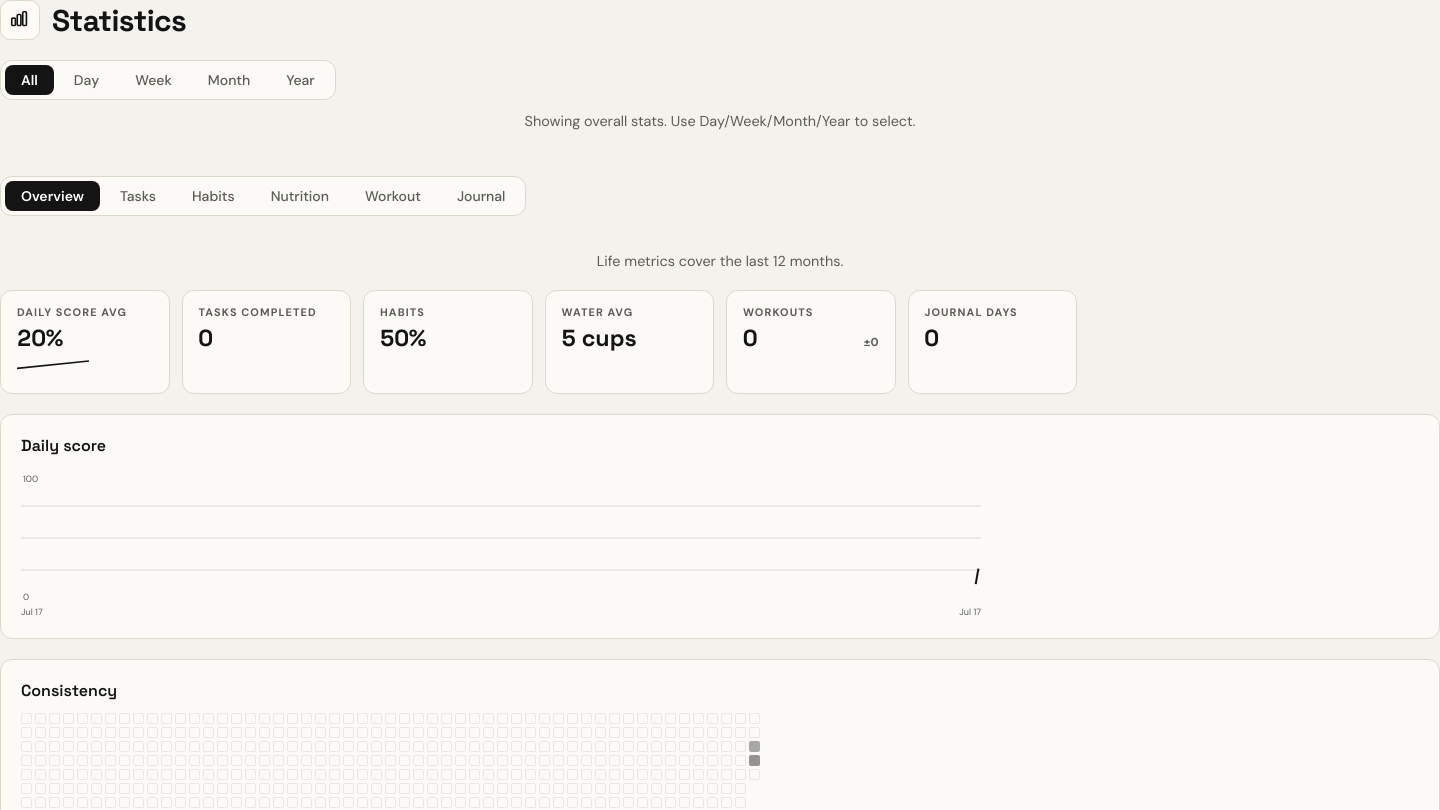
Test: Statistics life-metric sections (guest) › Habits tab shows per-habit completion; Nutrition shows averages vs targets
Click the tab "Habits". click: (213, 196)
box: 176,181 -> 251,211
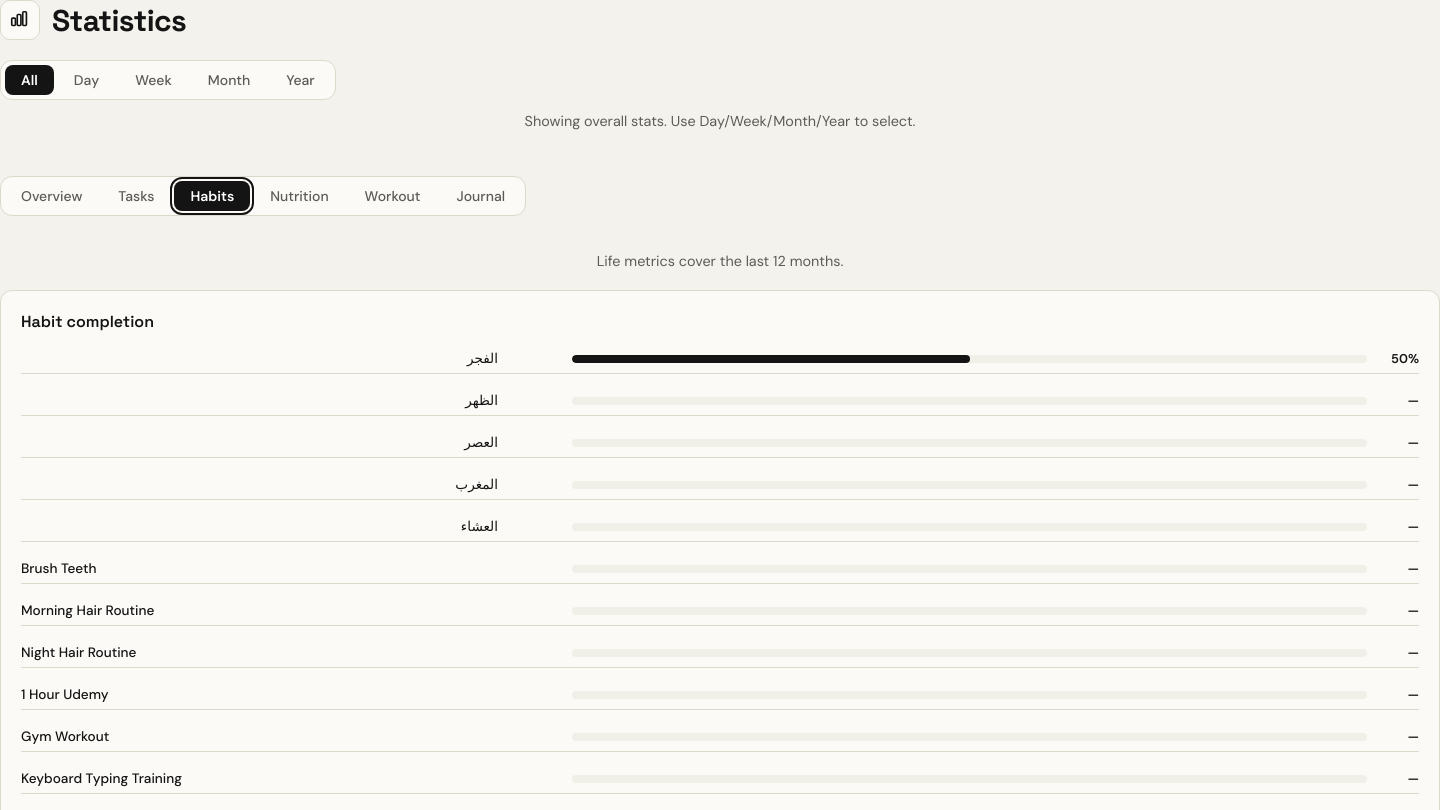
Expected: the text "50%" is shown, 1391,350 -> 1419,367
Expected: the text "الفجر" is shown, 467,350 -> 498,367
Click the tab "Nutrition". click: (300, 196)
box: 254,181 -> 345,211
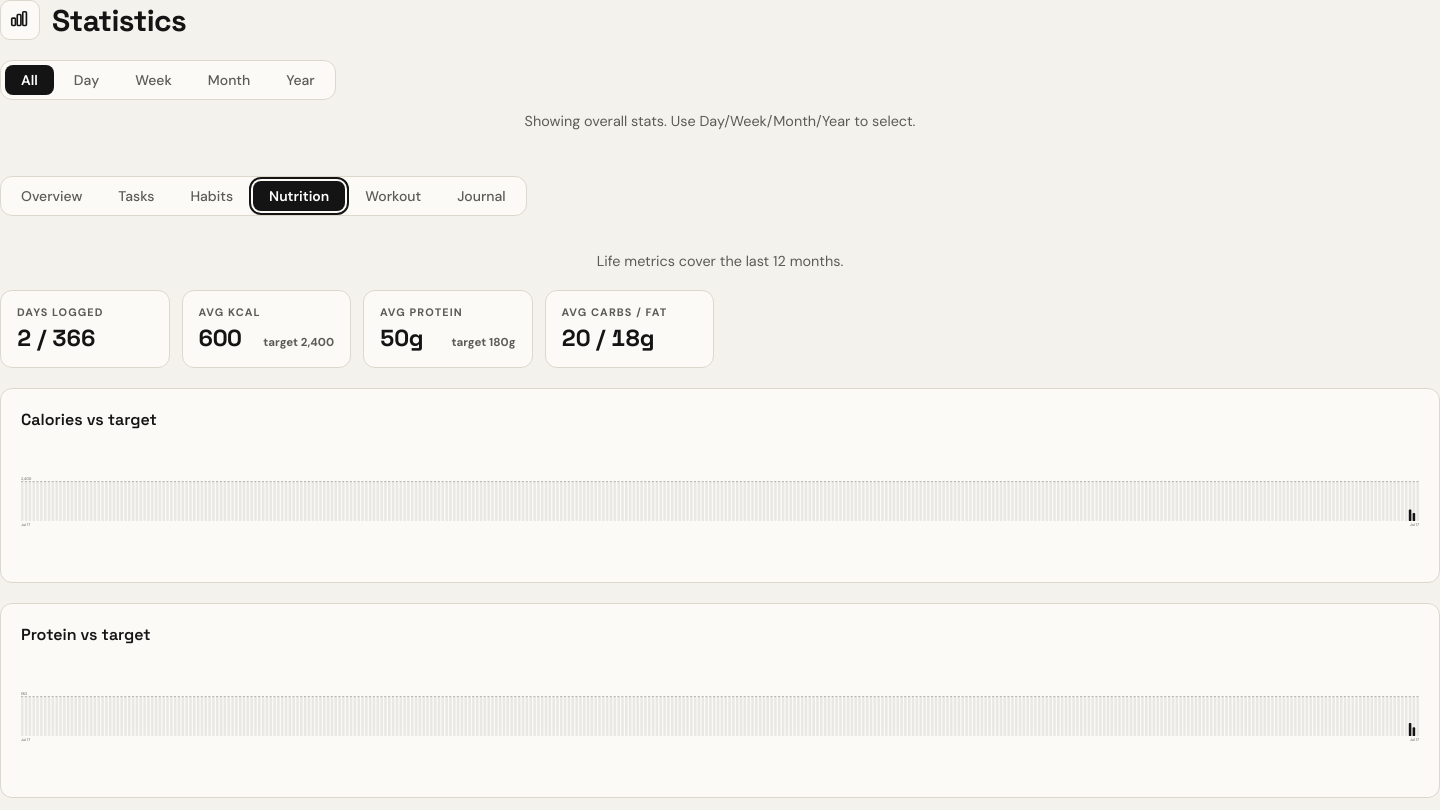
Expected: the text "600" is shown, 198,323 -> 242,353
Expected: the text "Days logged" is shown, 17,305 -> 104,319
Click the tab "Journal". click: (481, 196)
box: 441,181 -> 522,211
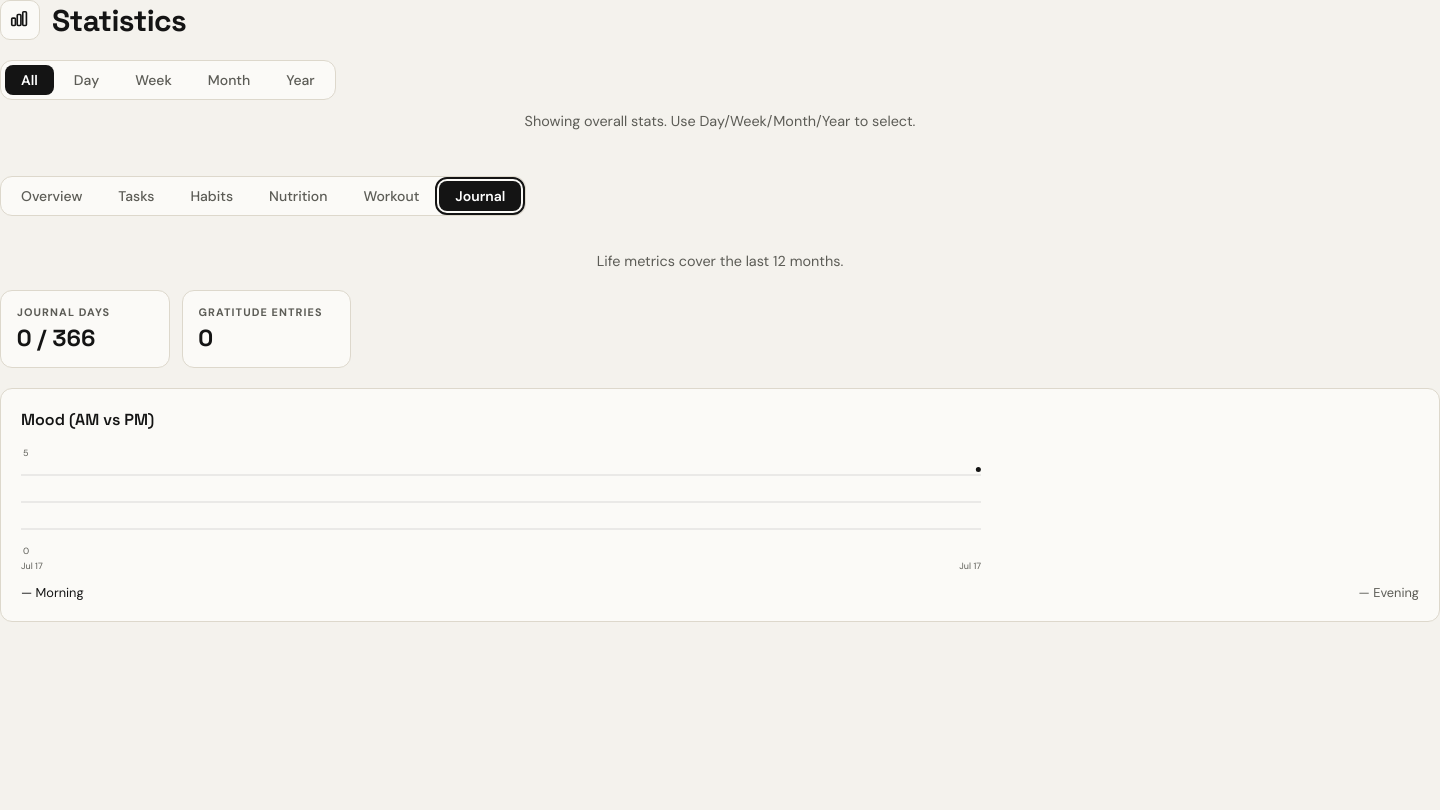
Expected: the heading "Mood (AM vs PM)" is shown, 21,409 -> 154,430
